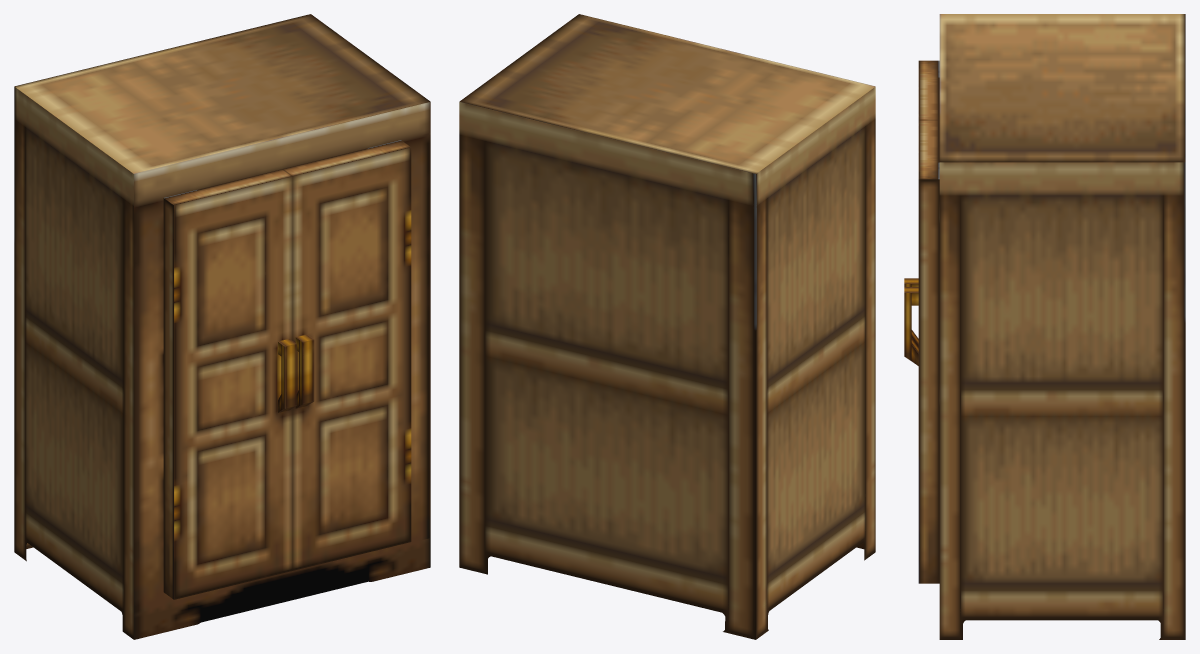
The model's file is Inside_Poly_Shelf_01_With_Door.obj.
3 views of the same model, side by side, from view 1: azimuth 30°, elevation 25°; view 2: azimuth 150°, elevation 25°; view 3: azimuth 270°, elevation 25° (orthographic). The views are drawn at different scales.
Visible parts, largest first — view 1: Cube, Cube.001, Cube.001_Cube.002; view 2: Cube; view 3: Cube, Cube.001, Cube.001_Cube.002.
Part boxes in pixels (x1=…): Cube: x1=14, y1=14, x2=430, y2=639; Cube.001: x1=163, y1=140, x2=411, y2=599; Cube.001_Cube.002: x1=278, y1=334, x2=314, y2=412; Cube: x1=459, y1=14, x2=875, y2=639; Cube: x1=939, y1=14, x2=1185, y2=639; Cube.001: x1=918, y1=60, x2=939, y2=583; Cube.001_Cube.002: x1=904, y1=278, x2=918, y2=365.
Size of the model in its own units: 1 by 1.5 by 0.8.
1 material, 1 textured.
